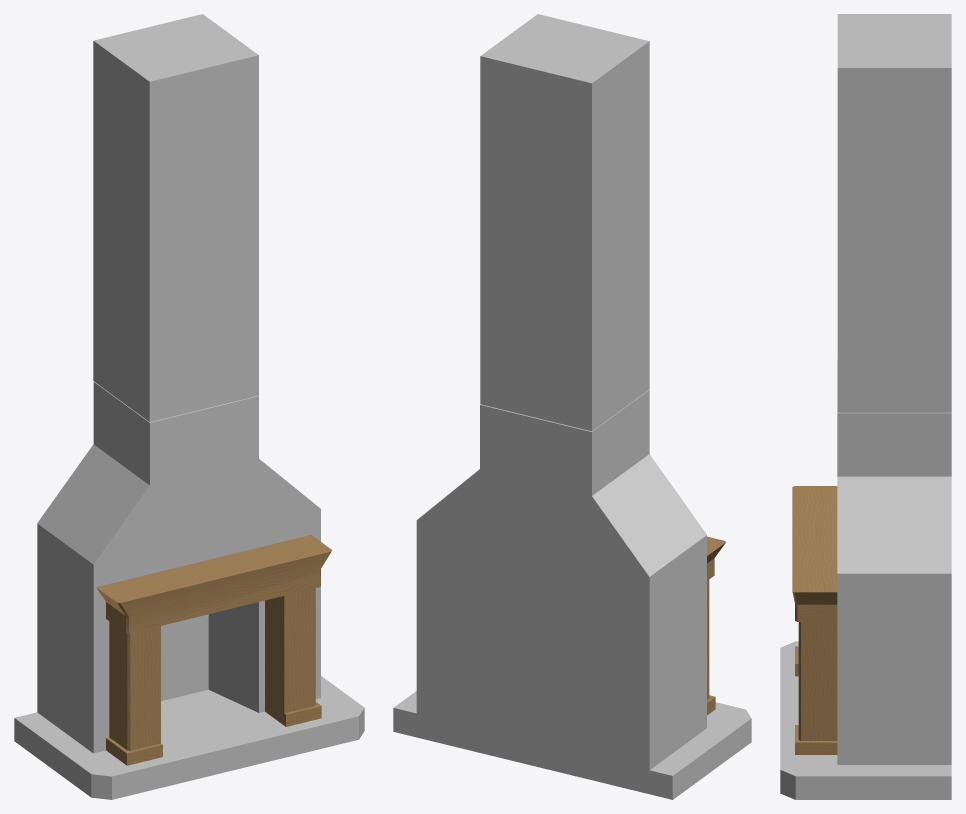
The model's file is Fireplace_Grouped_02C.FBX.
The picture shows the model from 3 angles, left to right: view 1: azimuth 30°, elevation 25°; view 2: azimuth 150°, elevation 25°; view 3: azimuth 270°, elevation 25°; orthographic projection. The views are drawn at different scales.
Parts seen in each view (by area): view 1: Fireplace_Box, Fireplace_Chimney_Extension; view 2: Fireplace_Box, Fireplace_Chimney_Extension; view 3: Fireplace_Box, Fireplace_Chimney_Extension.
Part boxes in pixels (x1=…): Fireplace_Box: x1=14, y1=381, x2=364, y2=799; Fireplace_Chimney_Extension: x1=93, y1=14, x2=258, y2=421; Fireplace_Box: x1=393, y1=390, x2=751, y2=799; Fireplace_Chimney_Extension: x1=480, y1=14, x2=649, y2=431; Fireplace_Box: x1=780, y1=359, x2=951, y2=799; Fireplace_Chimney_Extension: x1=837, y1=14, x2=951, y2=412.
Size of the model in its own units: 16535 by 39413 by 8858.
